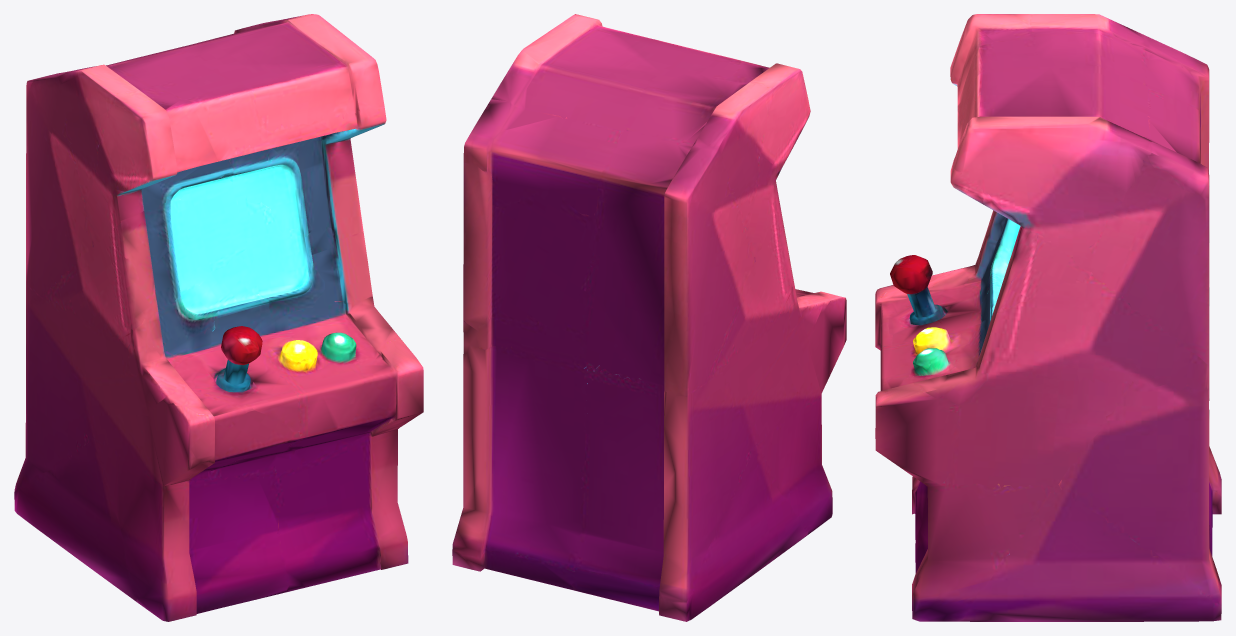
Rendered from borne-arcade.glb.
The picture shows the model from 3 angles, left to right: view 1: azimuth 30°, elevation 25°; view 2: azimuth 150°, elevation 25°; view 3: azimuth 270°, elevation 25°; orthographic projection. The views are drawn at different scales.
Parts seen in each view (by area): view 1: mesh_node; view 2: mesh_node; view 3: mesh_node.
Part boxes in pixels (x1,y1,x2,y2): mesh_node: [14, 14, 423, 621]; mesh_node: [452, 14, 846, 621]; mesh_node: [875, 14, 1221, 621].
Bounding box in the file's own units: 1 × 1.9 × 1.21.
1 material, 1 textured.
